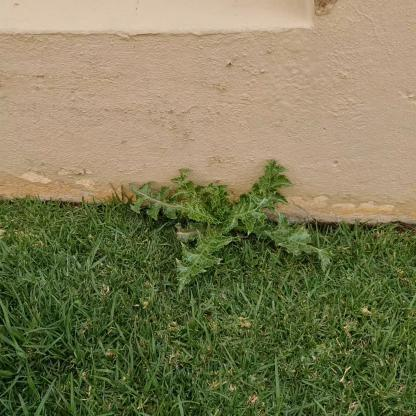Weeds: (128, 158, 335, 295)
